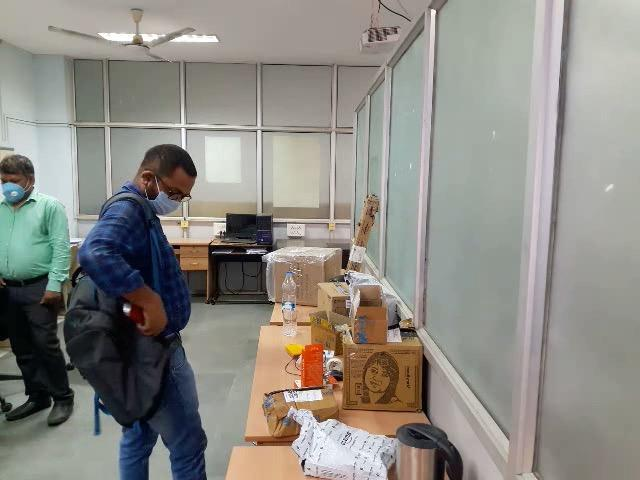shoplifting: (42, 243, 199, 446)
